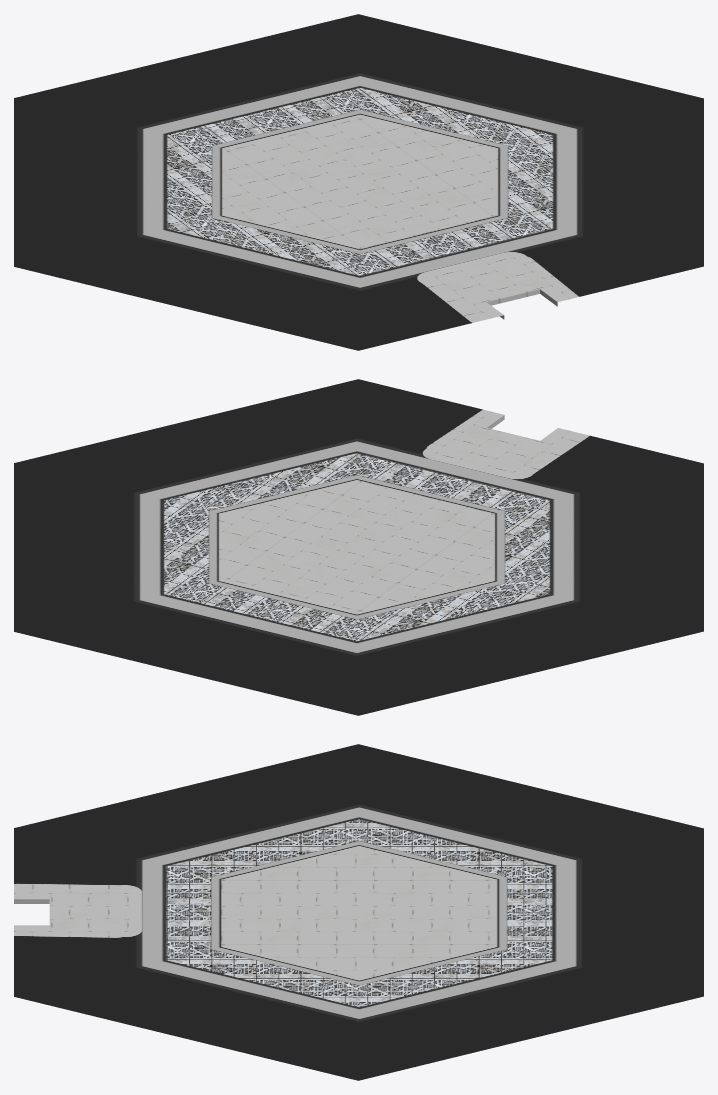
Rendered from bossFloor2 1.fbx.
3 renders of one model, top to bottom at view 1: azimuth 30°, elevation 25°; view 2: azimuth 150°, elevation 25°; view 3: azimuth 270°, elevation 25°, orthographic.
Visible parts, largest first — view 1: bossFloor; view 2: bossFloor; view 3: bossFloor.
Boxes of the visible parts, x1,y1,x2,y2 form: bossFloor: (14,14,703,350); bossFloor: (14,379,703,715); bossFloor: (14,744,703,1080).
Bounding box in the file's own units: 9205 × 59.43 × 7972.
1 material, 1 textured.
